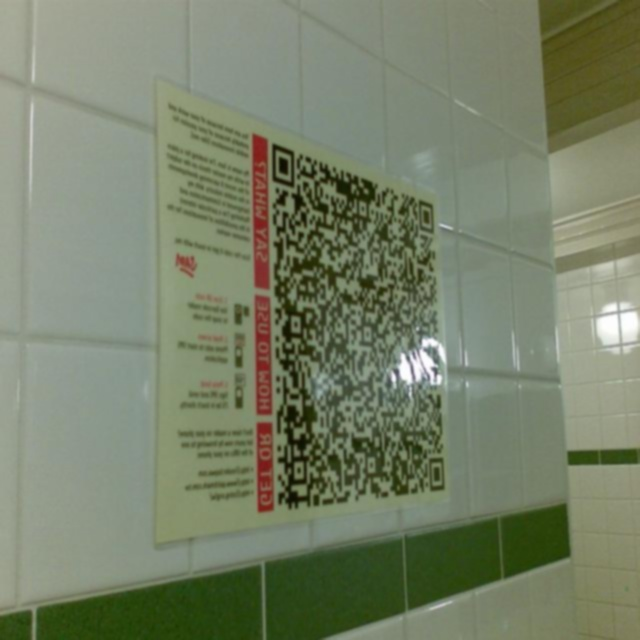qr-code: (273, 144, 444, 511)
